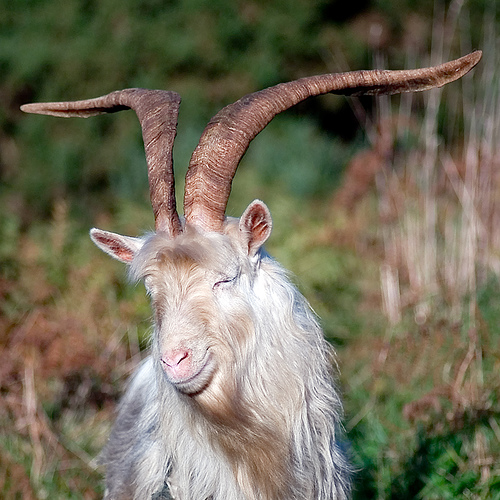goat: (18, 50, 485, 500)
